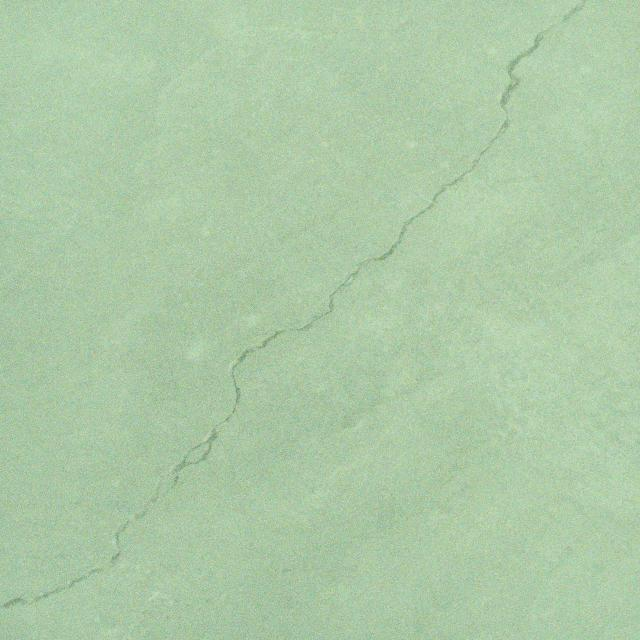crack: (0, 0, 587, 609)
